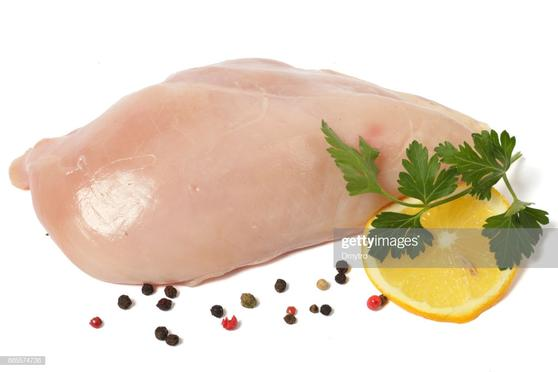chicken_fillet: (11, 54, 505, 293)
